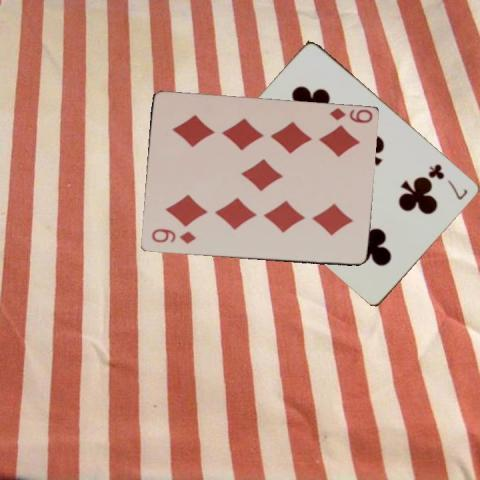7c: (426, 161, 470, 201)
9d: (148, 226, 197, 245), (326, 106, 373, 125)
